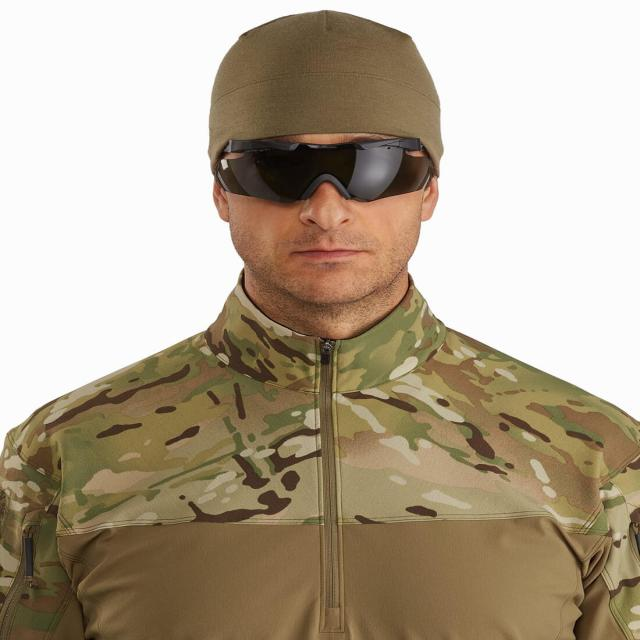illegal_helmet: (197, 4, 452, 312)
